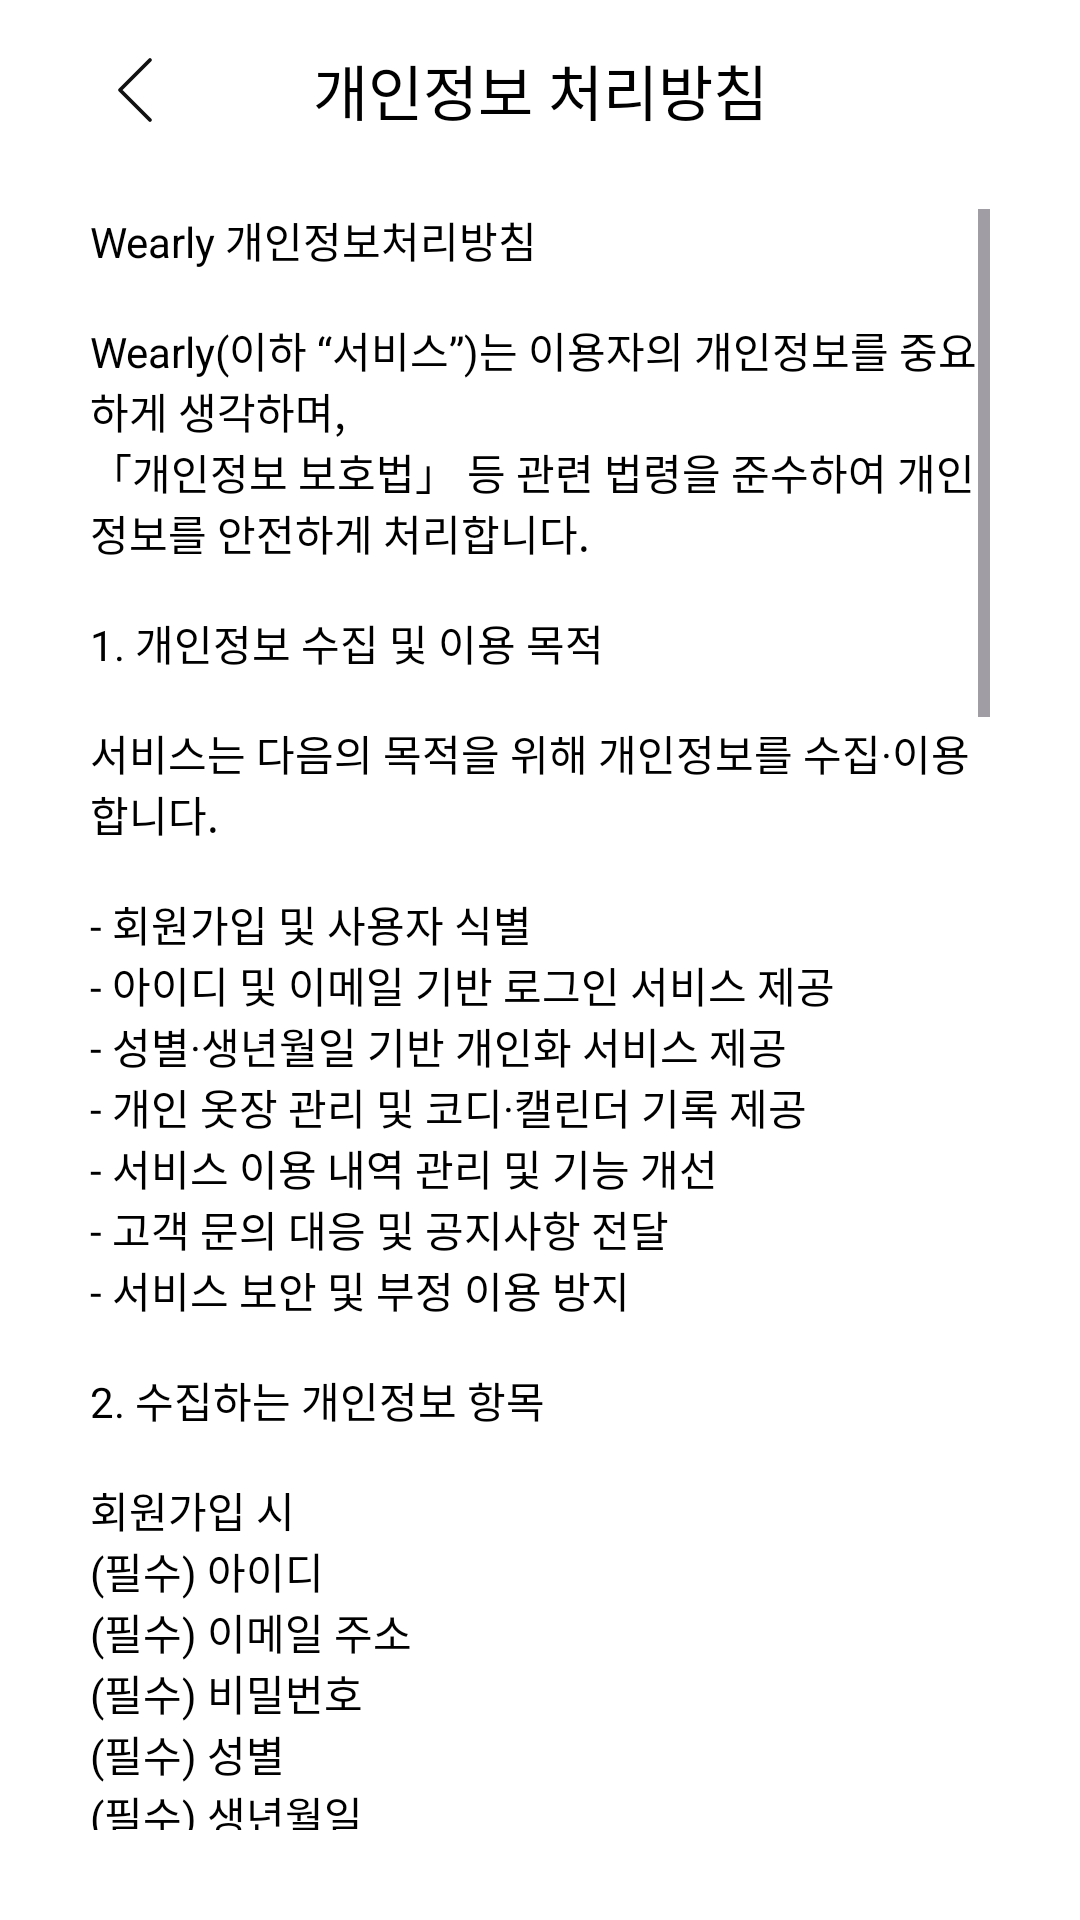

Named icons in this screenshot (1080w x 1920h) and their bounding boxes, [x1=x1, y1=y1, x2=x2, y2=y2]:
arrow left: [x1=118, y1=58, x2=152, y2=122]
